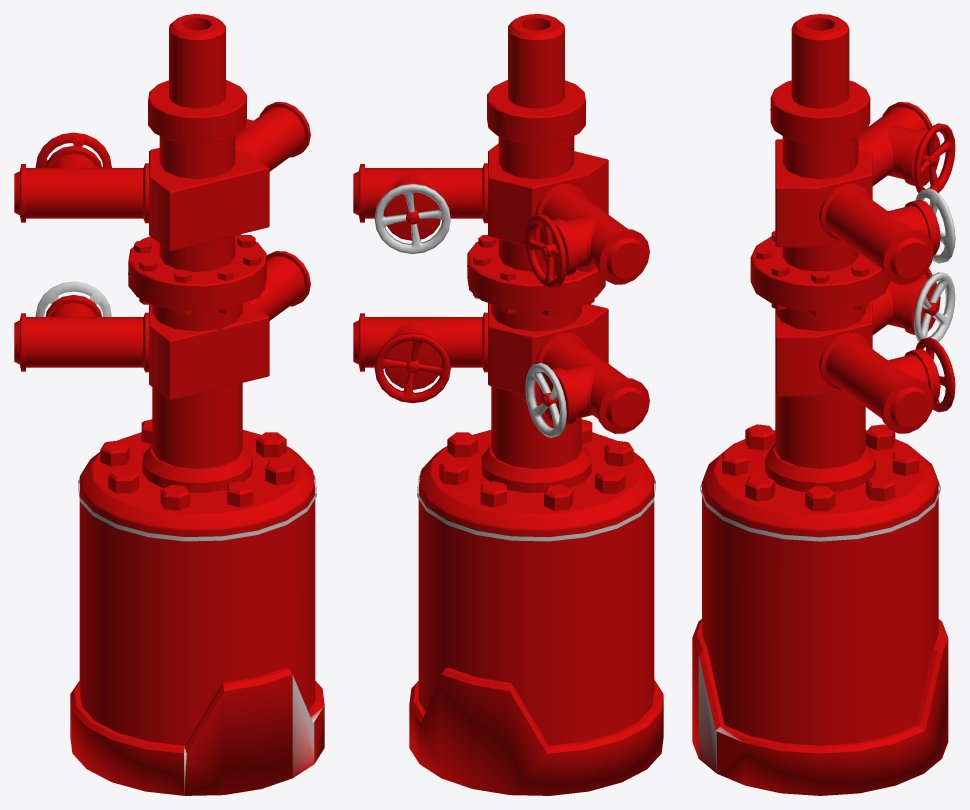
The model's file is Hydrant.fbx.
3 renders of one model, left to right at view 1: azimuth 30°, elevation 25°; view 2: azimuth 150°, elevation 25°; view 3: azimuth 270°, elevation 25°, orthographic.
Visible parts, largest first — view 1: OilPump_static; view 2: OilPump_static; view 3: OilPump_static.
Boxes of the visible parts, bbox=[...] form: OilPump_static: bbox=[14, 14, 324, 795]; OilPump_static: bbox=[353, 14, 663, 795]; OilPump_static: bbox=[692, 14, 955, 795].
Size of the model in its own units: 209 by 492 by 164.
